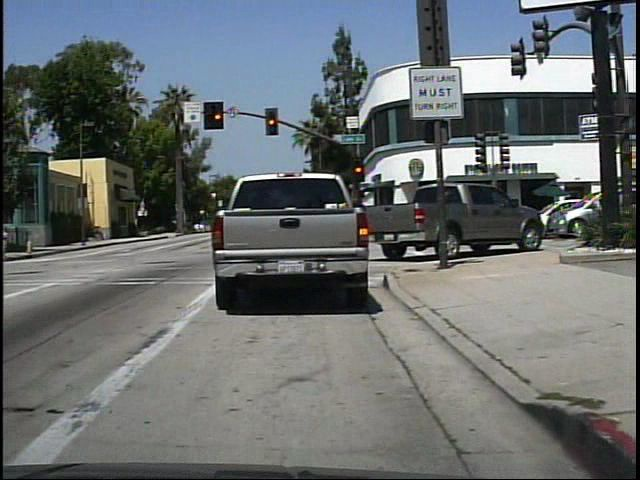person: (470, 199, 487, 239), (2, 225, 14, 261)
